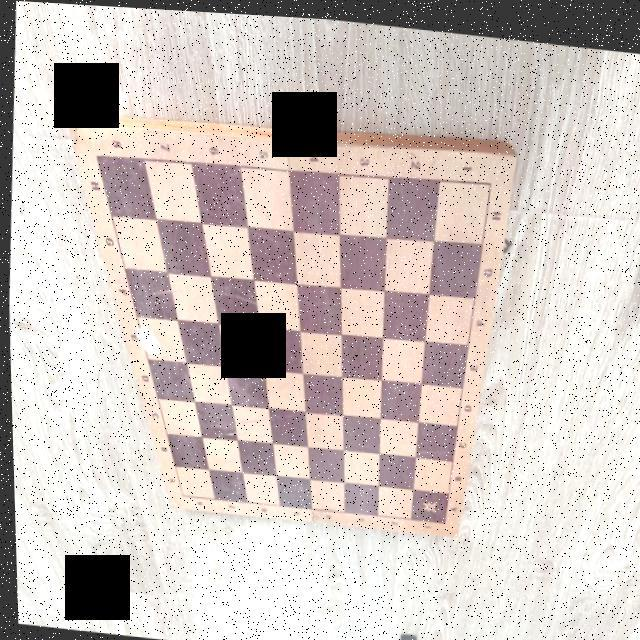chess-table-corners: (90, 148, 101, 164), (483, 172, 495, 186), (174, 488, 185, 501), (437, 514, 445, 522)
